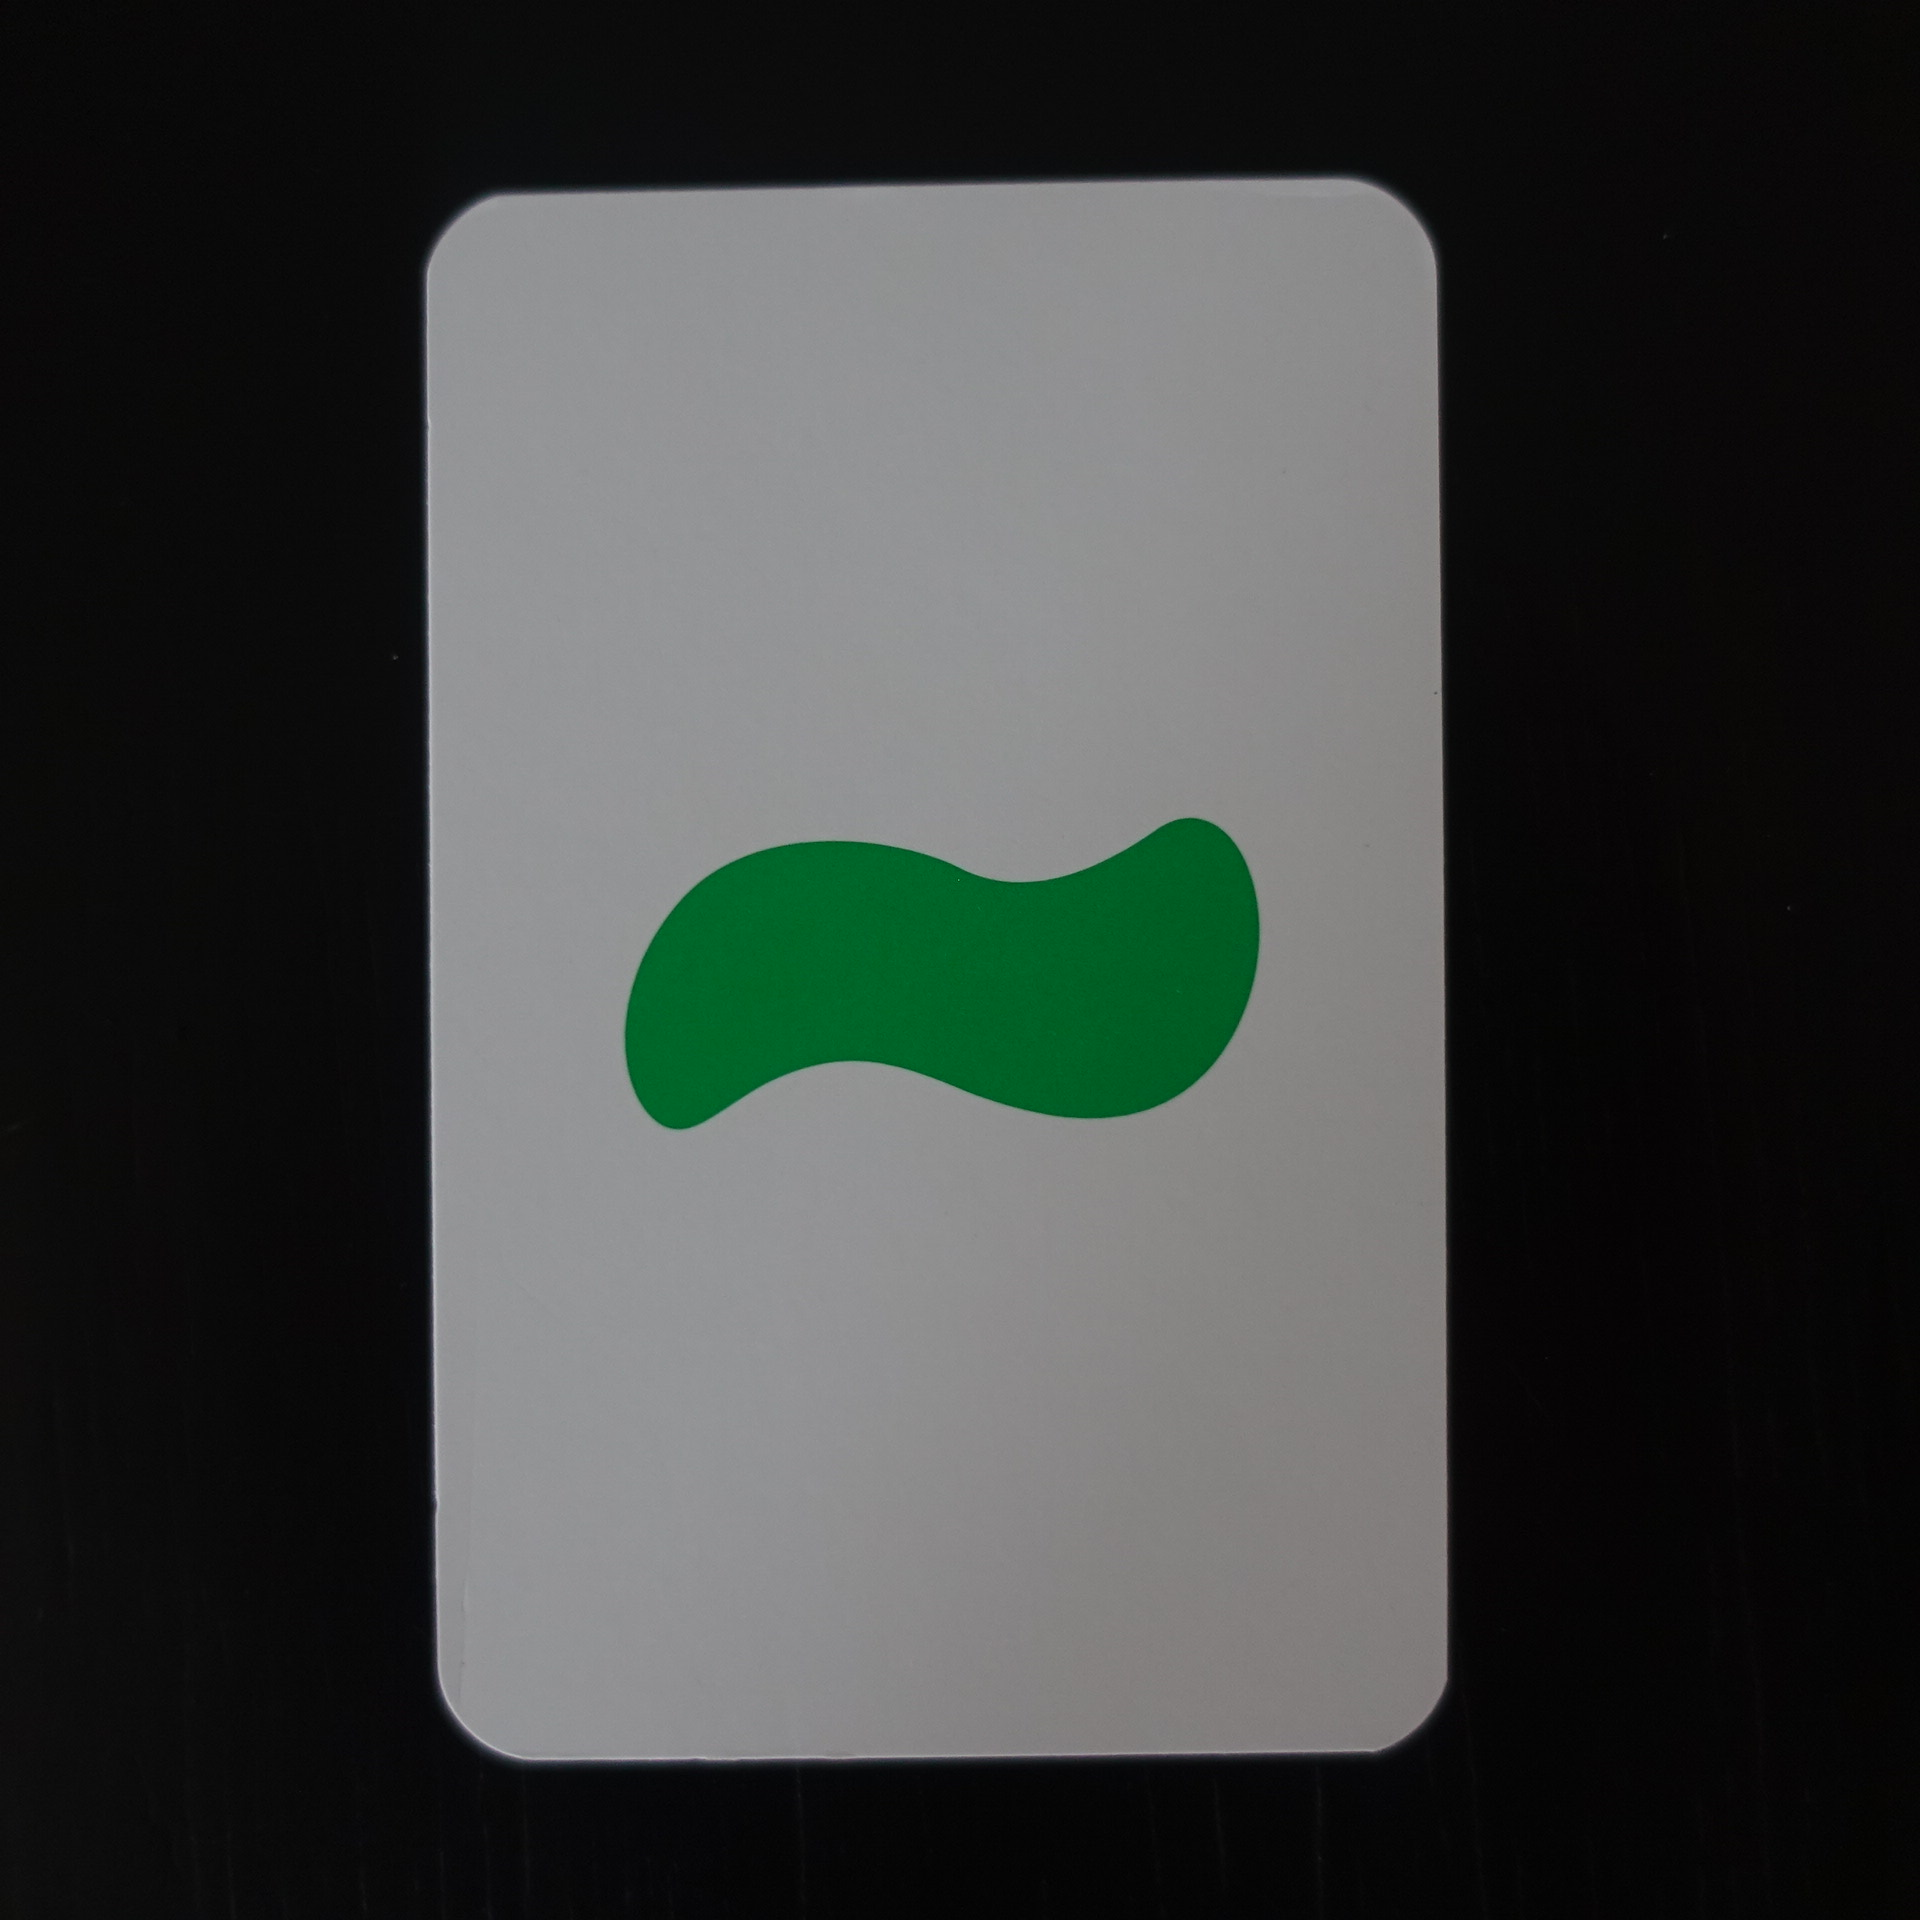c-2-f-d-r: (390, 164, 1480, 1792)
